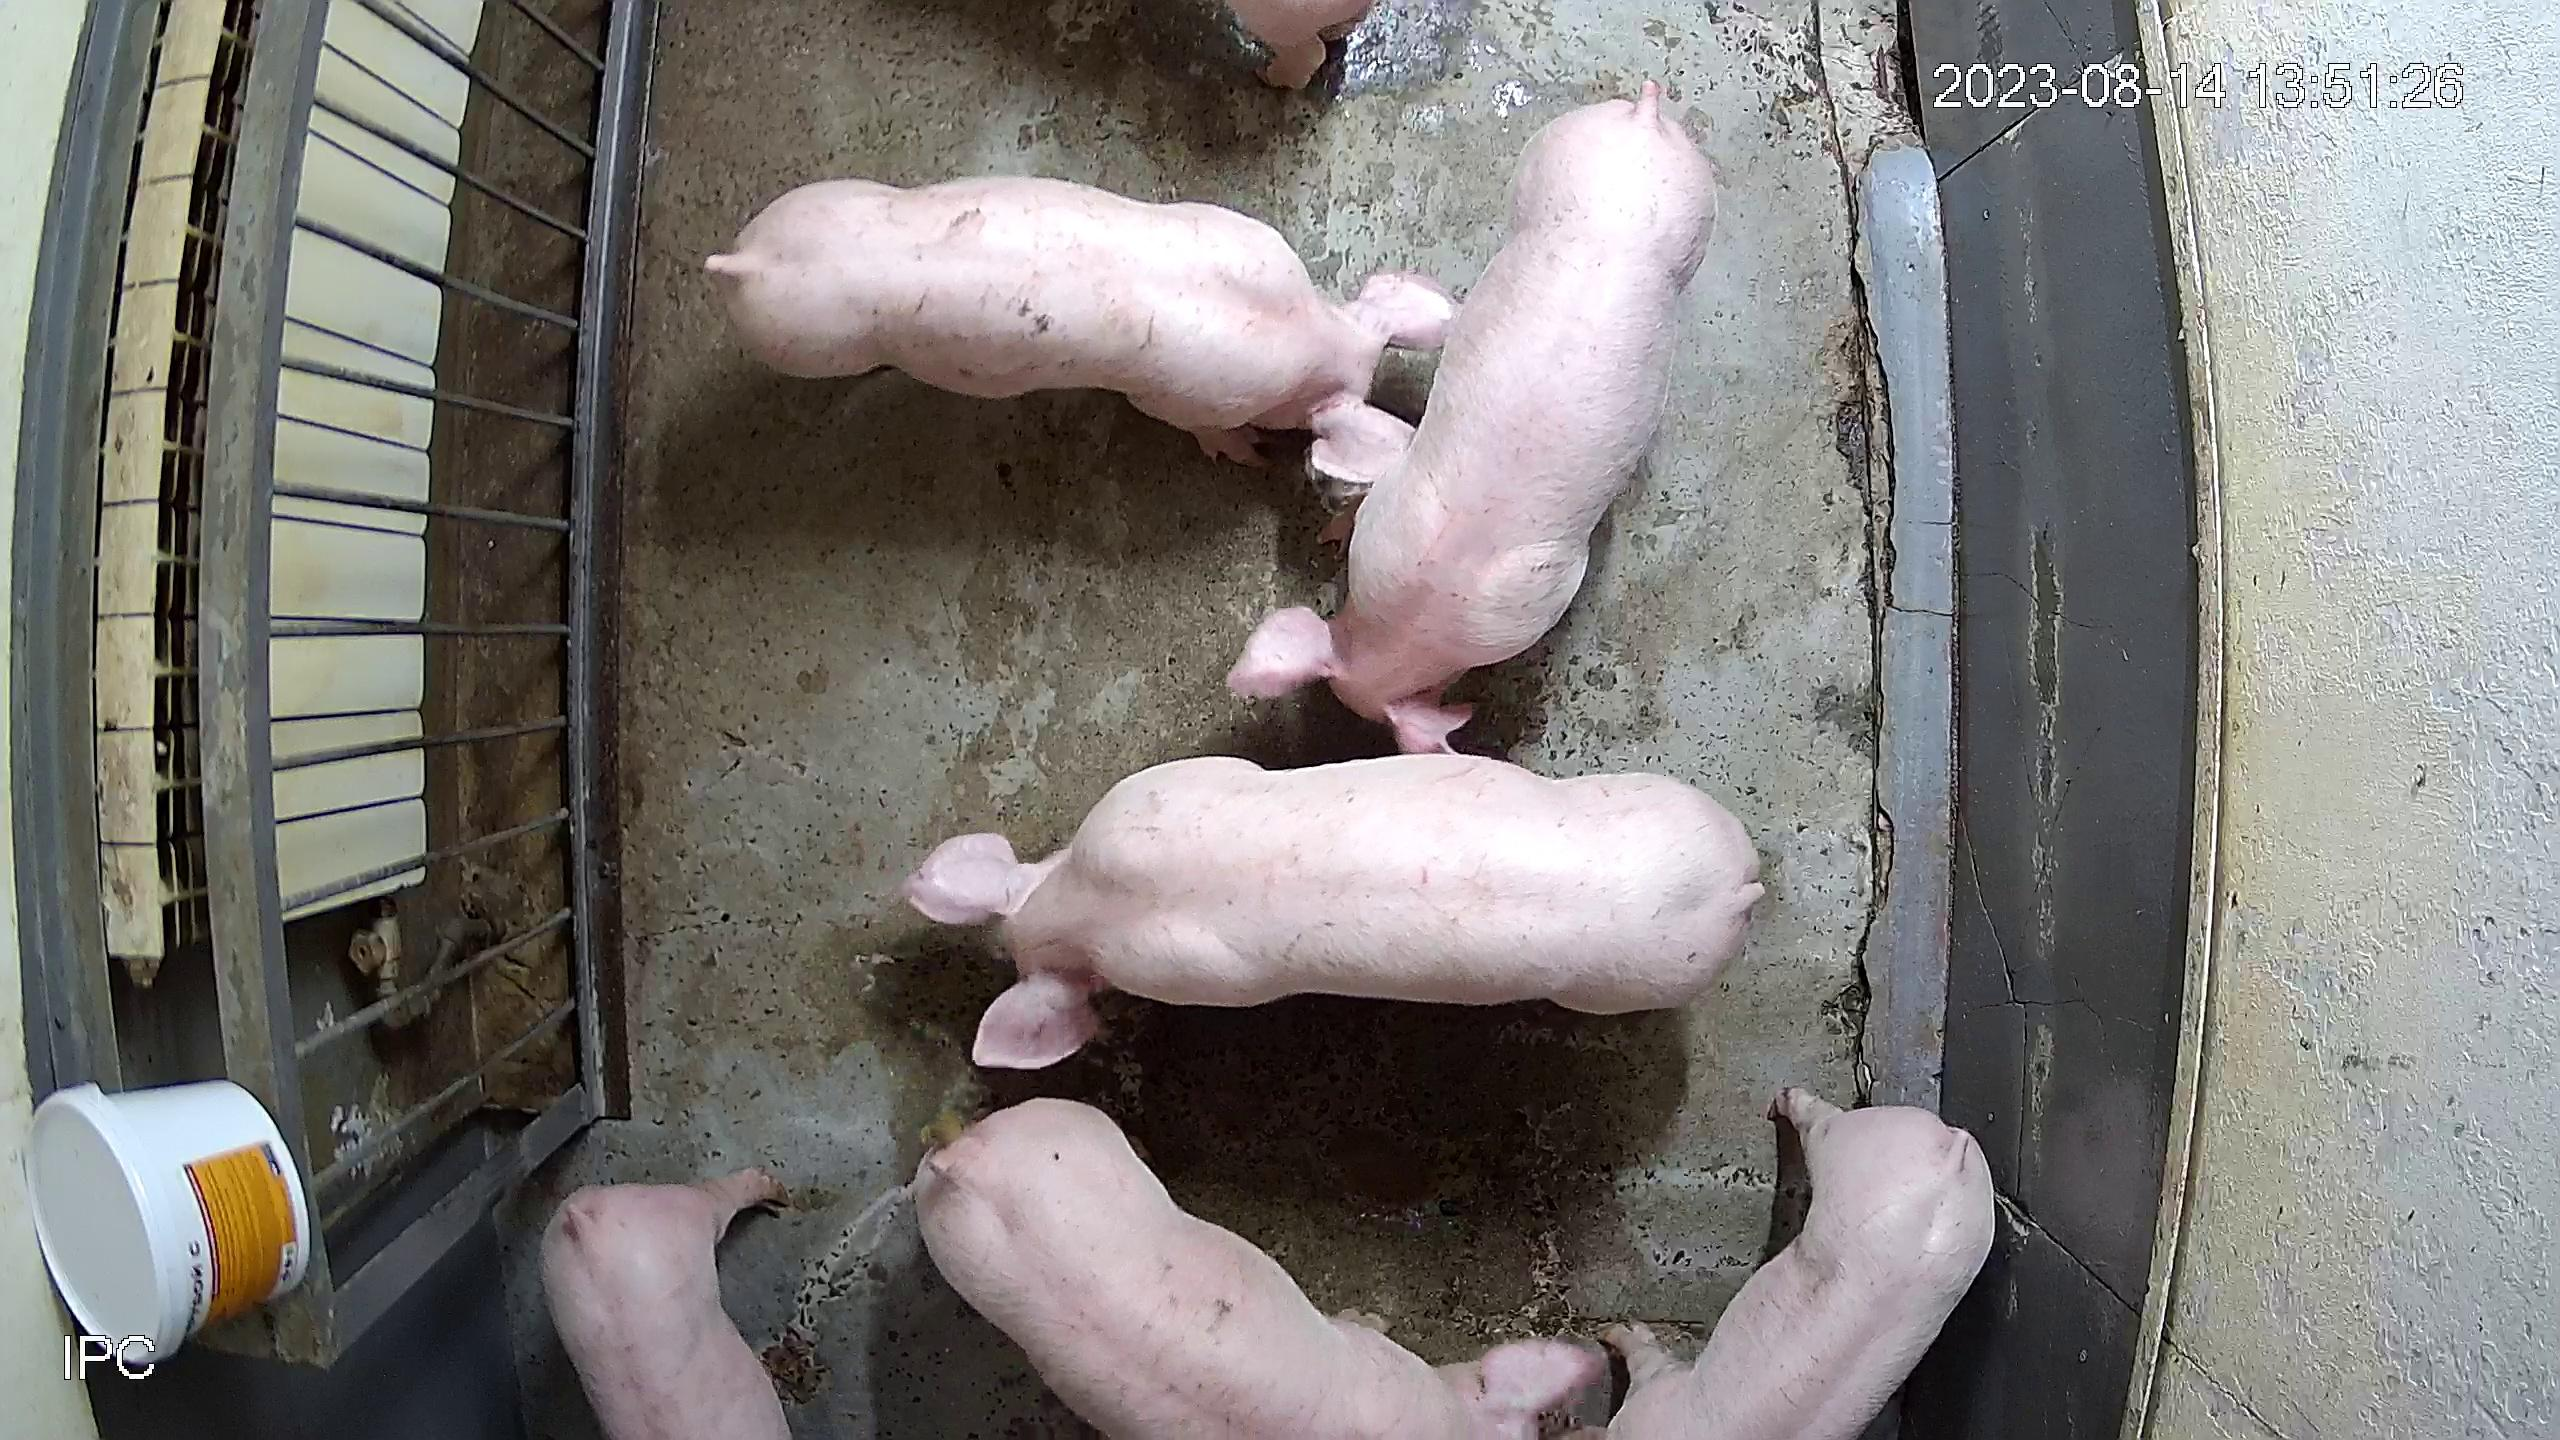Pig: (1231, 77, 1718, 751), (904, 753, 1765, 1067), (913, 1099, 1605, 1440), (703, 174, 1458, 487), (1605, 1088, 1997, 1440), (540, 1169, 789, 1440), (1227, 0, 1373, 84)
